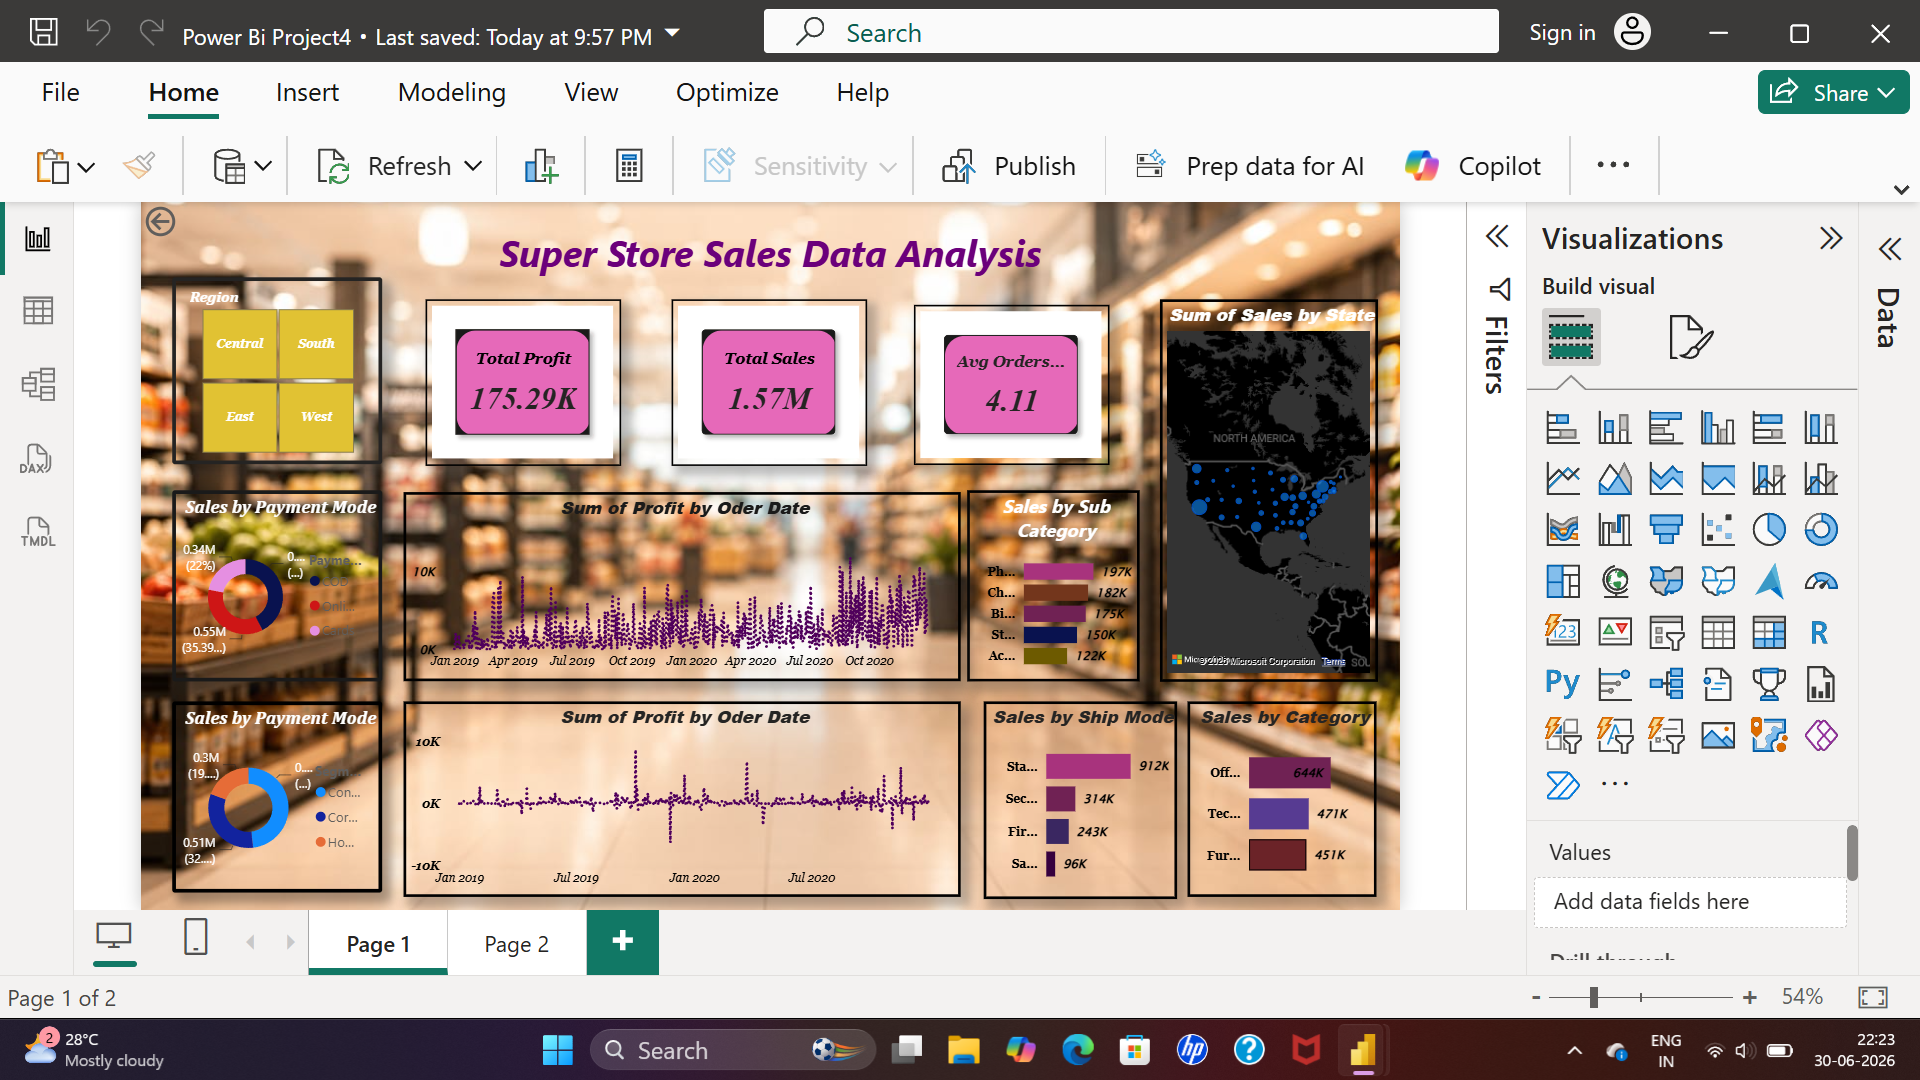

Layout of this report page (visuals, bound fields, positions):
{"tool":"powerbi","page":{"name":"Page 1","canvas":[1280,720],"ordinal":0},"visuals":[{"type":"clusteredBarChart","title":"Sales by Category","fields":{"Category":["SuperStore_Sales_Dataset (1).Category"],"Y":["Sum(SuperStore_Sales_Dataset (1).Sales)"]},"box":[1064.3,508.1,192.4,198.6],"z":0},{"type":"clusteredBarChart","title":"Sales by Sub Category","fields":{"Category":["SuperStore_Sales_Dataset (1).Sub-Category"],"Y":["Sum(SuperStore_Sales_Dataset (1).Sales)"]},"box":[840.6,292.7,175.6,194.5],"z":1000},{"type":"donutChart","title":"Sales by Payment Mode","fields":{"Category":["SuperStore_Sales_Dataset (1).Payment Mode"],"Y":["Sum(SuperStore_Sales_Dataset (1).Sales)"]},"box":[31.4,292.7,213.3,194.5],"z":2000},{"type":"clusteredBarChart","title":"Sales by Ship Mode","fields":{"Y":["Sum(SuperStore_Sales_Dataset (1).Sales)"],"Category":["SuperStore_Sales_Dataset (1).Ship Mode"]},"box":[857.3,508.1,196.6,200.7],"z":3000},{"type":"actionButton","box":[0,0,100,40],"z":4000},{"type":"lineChart","title":"Sum of Profit by Oder Date","fields":{"Y":["Sum(SuperStore_Sales_Dataset (1).Profit)"],"Category":["calendar.Date.Variation.Date Hierarchy.Year","calendar.Date.Variation.Date Hierarchy.Quarter","calendar.Date.Variation.Date Hierarchy.Month","calendar.Date.Variation.Date Hierarchy.Day"]},"box":[267.7,508.1,566.7,198.6],"z":6000},{"type":"slicer","fields":{"Values":["SuperStore_Sales_Dataset (1).Region"]},"box":[31.4,77.4,213.3,190.3],"z":7000},{"type":"cardVisual","fields":{"Data":["SuperStore_Sales_Dataset (1).Total Profit"]},"box":[288.6,98.3,198.6,169.4],"z":8000},{"type":"textbox","box":[0,20.9,1279.7,135.9],"z":9000},{"type":"map","fields":{"Category":["SuperStore_Sales_Dataset (1).State"],"Size":["Sum(SuperStore_Sales_Dataset (1).Sales)"]},"box":[1035.1,98.3,221.6,388.9],"z":9001},{"type":"cardVisual","fields":{"Data":["SuperStore_Sales_Dataset (1).Total Sales"]},"box":[539.5,98.3,198.6,169.4],"z":9004},{"type":"cardVisual","fields":{"Data":["SuperStore_Sales_Dataset (1).Avg Orders per day"]},"box":[786.2,104.6,198.6,163.1],"z":9005},{"type":"lineChart","title":"Sum of Profit by Oder Date","fields":{"Y":["Sum(SuperStore_Sales_Dataset (1).Sales)"],"Category":["calendar.Date.Variation.Date Hierarchy.Year","calendar.Date.Variation.Date Hierarchy.Quarter","calendar.Date.Variation.Date Hierarchy.Month","calendar.Date.Variation.Date Hierarchy.Day"]},"box":[267.7,294.8,566.7,192.4],"z":9006},{"type":"donutChart","title":"Sales by Payment Mode","fields":{"Category":["SuperStore_Sales_Dataset (1).Segment"],"Y":["Sum(SuperStore_Sales_Dataset (1).Sales)"]},"box":[31.4,508.1,213.3,194.5],"z":9007}]}

Visuals, with their boxes on the page's 1280x720 design canvas (x1, y1, x2, y2). These are canvas units, not pixel positions in the 1920x1080 screenshot, which may show the page scaled, cropped or inside an application window:
"Sales by Category" clusteredBarChart: BBox(1064, 508, 1257, 707)
"Sales by Sub Category" clusteredBarChart: BBox(841, 293, 1016, 487)
"Sales by Payment Mode" donutChart: BBox(31, 293, 245, 487)
"Sales by Ship Mode" clusteredBarChart: BBox(857, 508, 1054, 709)
actionButton: BBox(0, 0, 100, 40)
"Sum of Profit by Oder Date" lineChart: BBox(268, 508, 834, 707)
slicer - SuperStore_Sales_Dataset (1).Region: BBox(31, 77, 245, 268)
cardVisual - SuperStore_Sales_Dataset (1).Total Profit: BBox(289, 98, 487, 268)
textbox: BBox(0, 21, 1280, 157)
map - SuperStore_Sales_Dataset (1).State x Sum(SuperStore_Sales_Dataset (1).Sales): BBox(1035, 98, 1257, 487)
cardVisual - SuperStore_Sales_Dataset (1).Total Sales: BBox(540, 98, 738, 268)
cardVisual - SuperStore_Sales_Dataset (1).Avg Orders per day: BBox(786, 105, 985, 268)
"Sum of Profit by Oder Date" lineChart: BBox(268, 295, 834, 487)
"Sales by Payment Mode" donutChart: BBox(31, 508, 245, 703)
